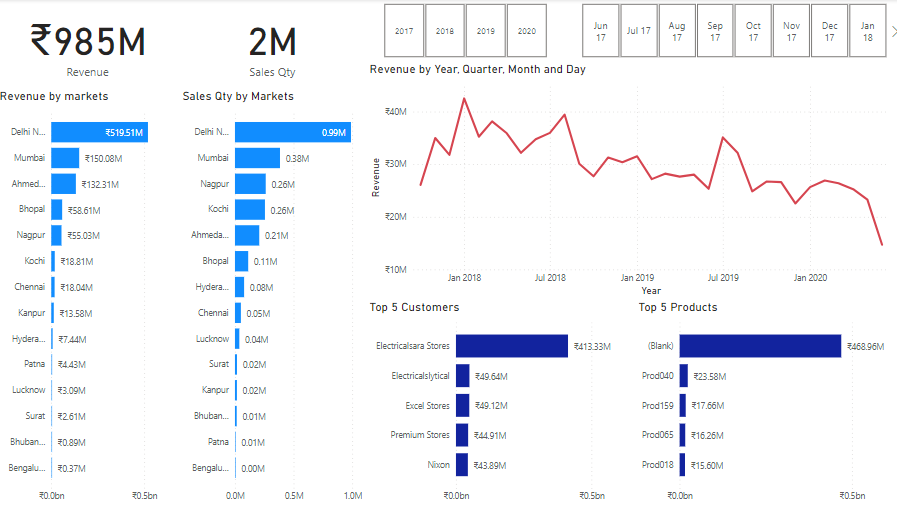

This screenshot's page, from the dashboard's own definition file:
{"tool":"powerbi","page":{"name":"Key Insights","canvas":[1280,720],"ordinal":0},"visuals":[{"type":"card","fields":{"Values":["Base Measures.Revenue"]},"box":[0,0,258.7,127.7],"z":0},{"type":"card","fields":{"Values":["Base Measures.Sales Qty"]},"box":[258.7,0,263.7,127.7],"z":1000},{"type":"barChart","title":"Revenue by markets","fields":{"Y":["Base Measures.Revenue"],"Category":["sales markets.markets_name"]},"box":[0,127.7,258.7,593],"z":2000},{"type":"barChart","title":"Sales Qty by Markets","fields":{"Category":["sales markets.markets_name"],"Y":["Base Measures.Sales Qty"]},"box":[258.7,127.7,263.7,593],"z":3000},{"type":"slicer","fields":{"Values":["sales date.year"]},"box":[522.4,0,278.8,89],"z":4000},{"type":"slicer","fields":{"Values":["sales date.cy_date"]},"box":[801.3,0,478.7,89],"z":5000},{"type":"barChart","title":"Top 5 Customers","fields":{"Y":["Base Measures.Revenue"],"Category":["sales customers.custmer_name"]},"box":[522.4,425,379.6,295.6],"z":6000},{"type":"barChart","title":"Top 5 Products ","fields":{"Y":["Base Measures.Revenue"],"Category":["sales products.product_code"]},"box":[902,425,378,295.6],"z":7000},{"type":"lineChart","fields":{"Category":["sales date.cy_date.Variation.Date Hierarchy.Year","sales date.cy_date.Variation.Date Hierarchy.Quarter","sales date.cy_date.Variation.Date Hierarchy.Month","sales date.cy_date.Variation.Date Hierarchy.Day"],"Y":["Base Measures.Revenue"]},"box":[522.4,89,757.6,336],"z":8000}]}

Visuals, with their boxes in screenshot pixels (x1, y1, x2, y2), scaled from the page's 1280x720 canvas onto the 897x507 screenshot:
card - Base Measures.Revenue: {"x1": 0, "y1": 0, "x2": 181, "y2": 90}
card - Base Measures.Sales Qty: {"x1": 181, "y1": 0, "x2": 366, "y2": 90}
"Revenue by markets" barChart: {"x1": 0, "y1": 90, "x2": 181, "y2": 506}
"Sales Qty by Markets" barChart: {"x1": 181, "y1": 90, "x2": 366, "y2": 506}
slicer - sales date.year: {"x1": 366, "y1": 0, "x2": 561, "y2": 63}
slicer - sales date.cy_date: {"x1": 562, "y1": 0, "x2": 896, "y2": 63}
"Top 5 Customers" barChart: {"x1": 366, "y1": 299, "x2": 632, "y2": 506}
"Top 5 Products " barChart: {"x1": 632, "y1": 299, "x2": 896, "y2": 506}
lineChart - sales date.cy_date.Variation.Date Hierarchy.Year x sales date.cy_date.Variation.Date Hierarchy.Quarter: {"x1": 366, "y1": 63, "x2": 896, "y2": 299}
